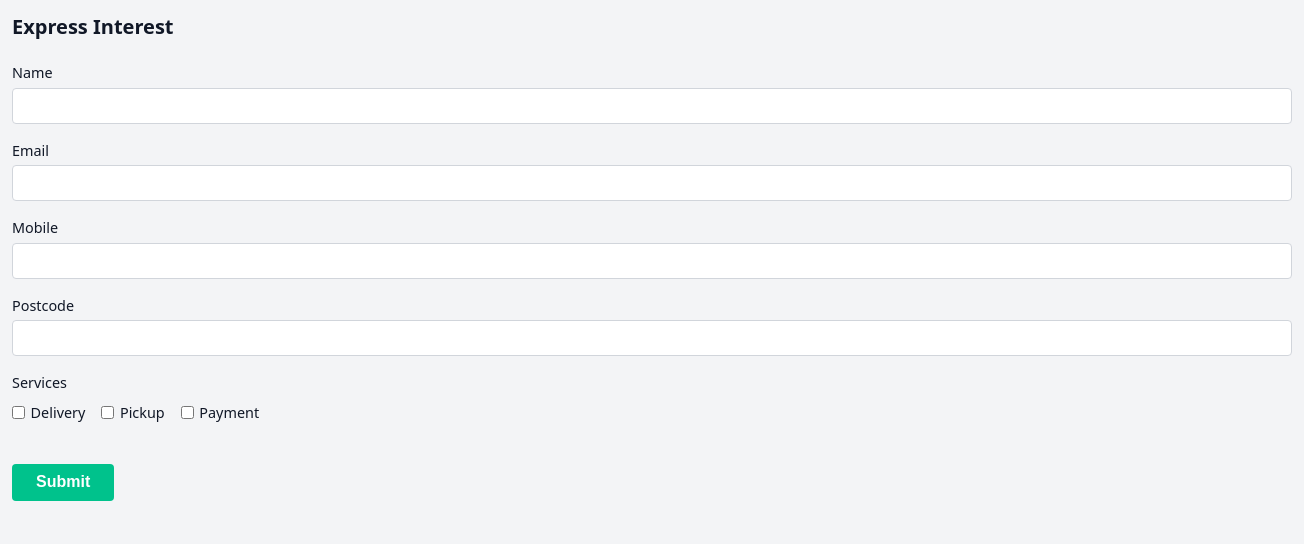
RegistrationForm validation › shows "Enter a valid Australian postcode" for a 4-digit postcode outside valid Australian ranges
The image size is (1304, 544).
Type "Jane Smith" into the field labelled "Name".
click(652, 106); type("Jane Smith")  # box x1=12 y1=88 x2=1292 y2=124
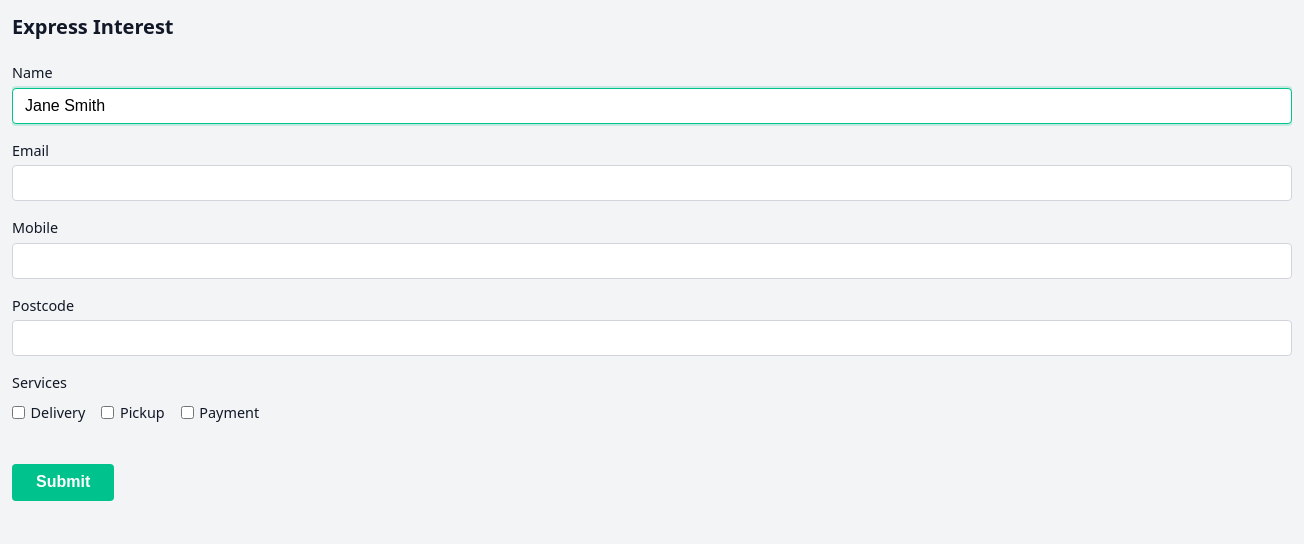
Type "jane@example.com" into the field labelled "Email".
click(652, 183); type("jane@example.com")  # box x1=12 y1=165 x2=1292 y2=201
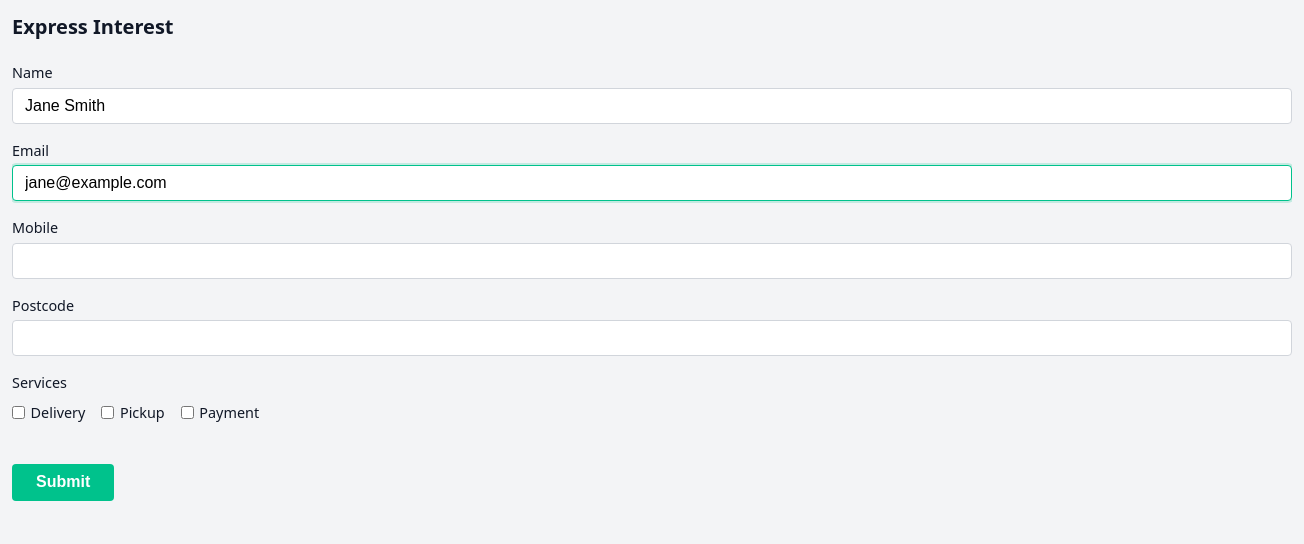
Type "0412345678" into the field labelled "Mobile".
click(652, 261); type("0412345678")  # box x1=12 y1=243 x2=1292 y2=279
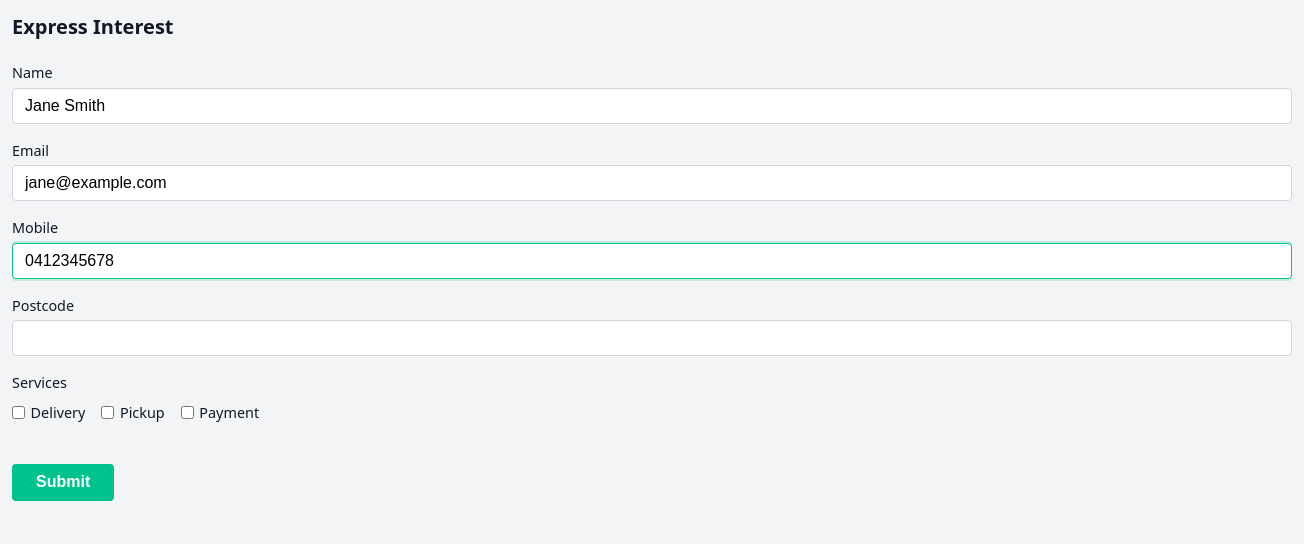
Type "0050" into the field labelled "Postcode".
click(652, 338); type("0050")  # box x1=12 y1=320 x2=1292 y2=356
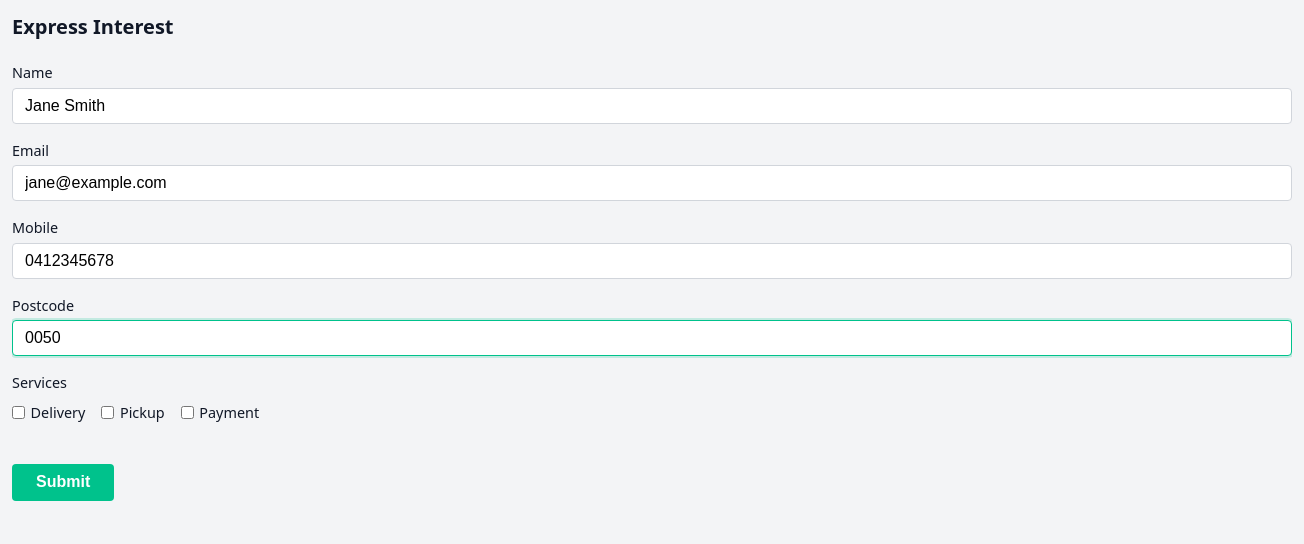
Click the checkbox labelled "Delivery".
click(18, 413)  # box x1=12 y1=406 x2=25 y2=419
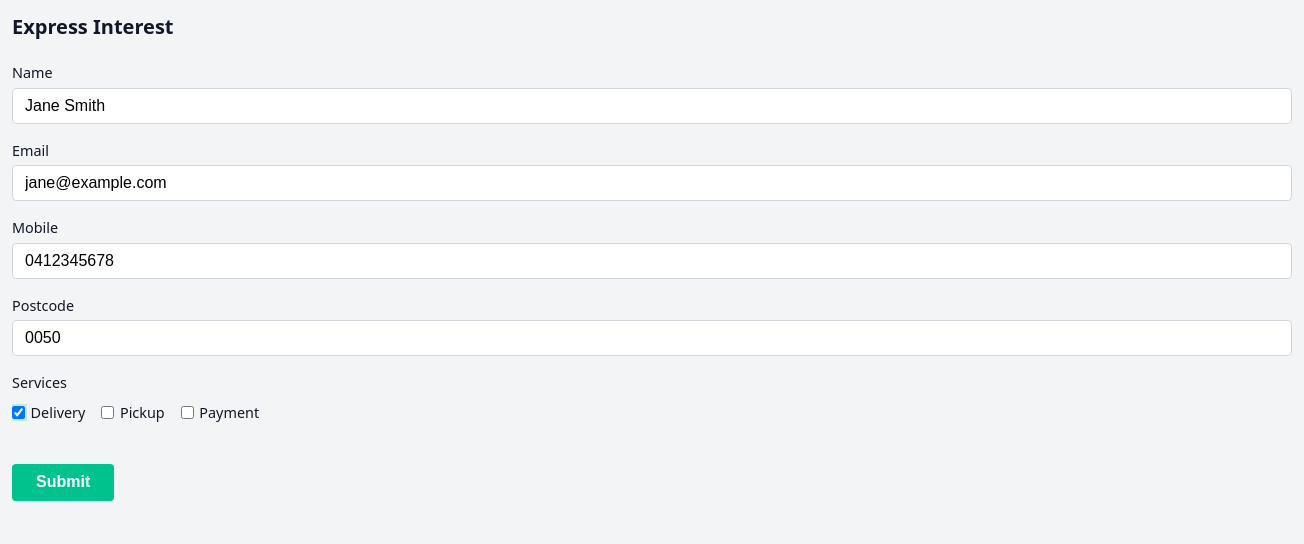
Click the button "Submit".
click(63, 482)  # box x1=12 y1=464 x2=114 y2=501
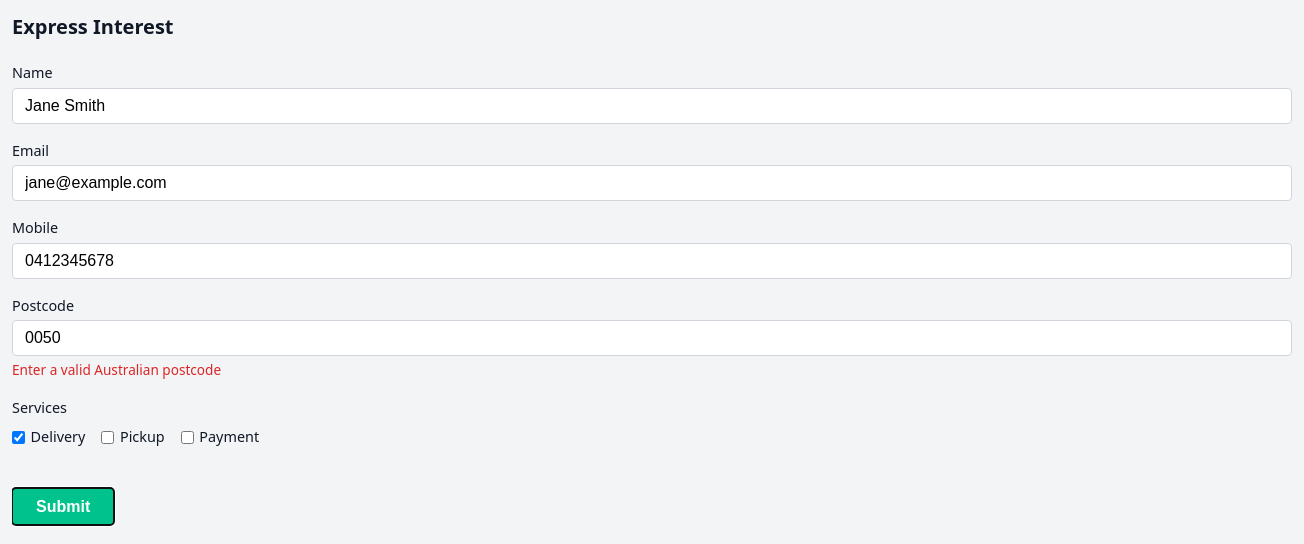
expect the text "Enter a valid Australian postcode" is shown: met, box x1=12 y1=360 x2=221 y2=379
